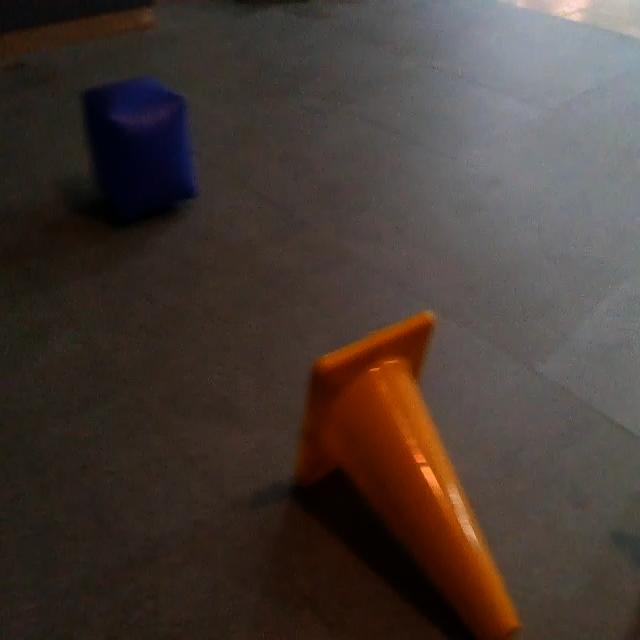cone: (294, 308, 530, 638)
cube: (85, 70, 198, 230)
